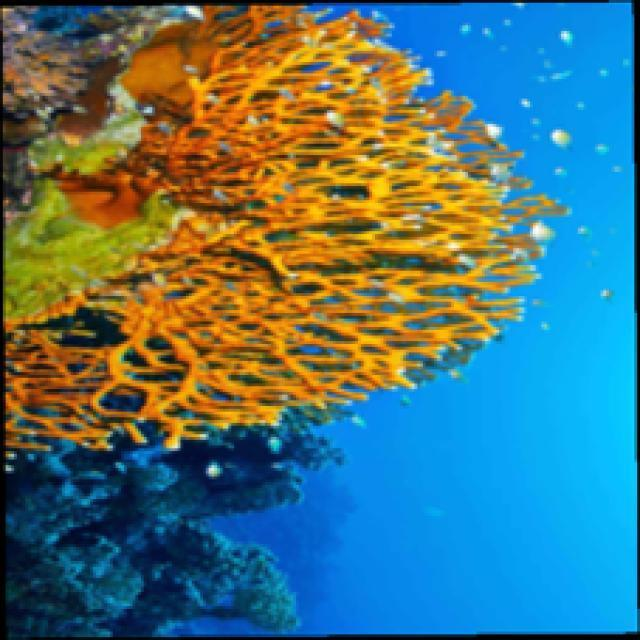Healthy: (6, 7, 572, 454), (2, 128, 193, 320)
